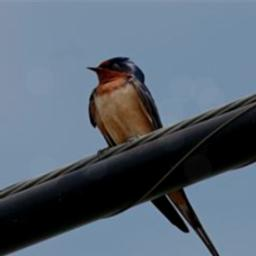Swallow: (85, 54, 226, 256)
